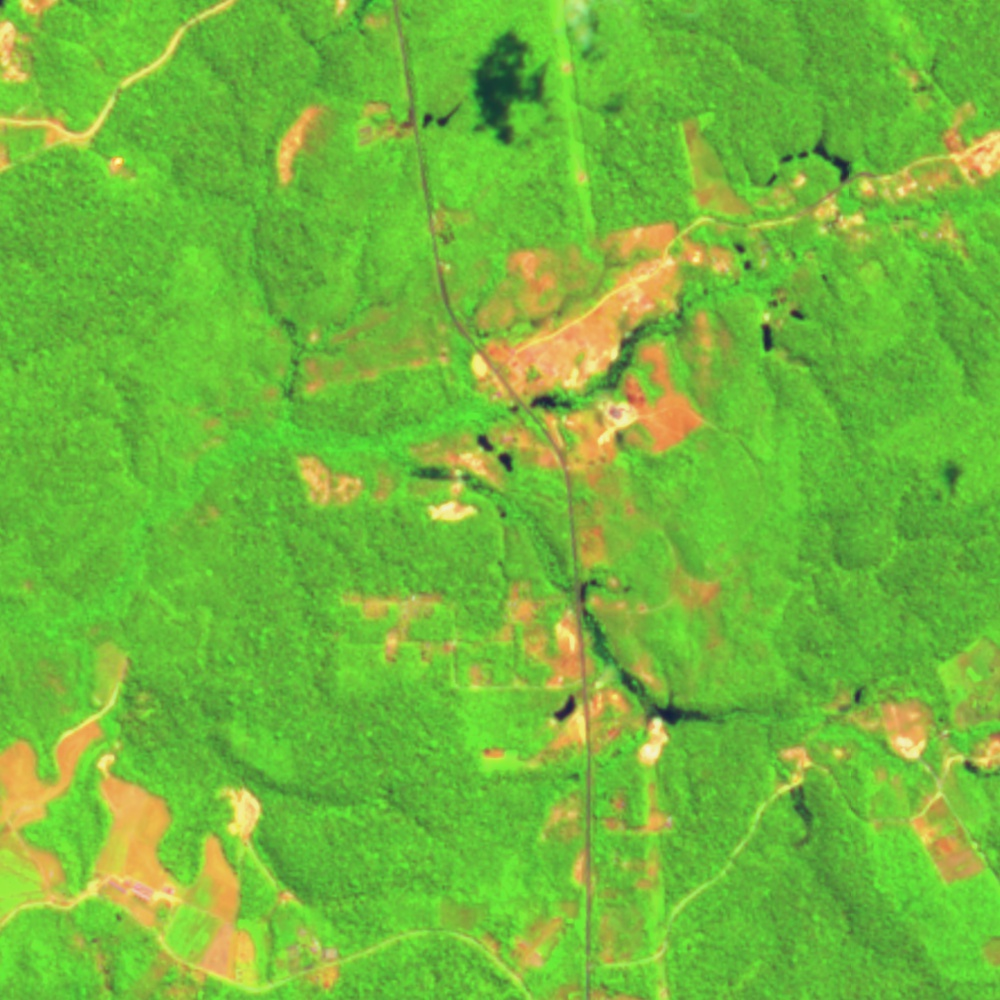legal: (293, 71, 1000, 510), (1, 656, 347, 1000), (324, 551, 750, 775), (821, 638, 1000, 901), (496, 775, 679, 1000), (273, 93, 468, 189), (1, 1, 80, 176), (769, 742, 823, 851), (327, 1, 402, 31)
